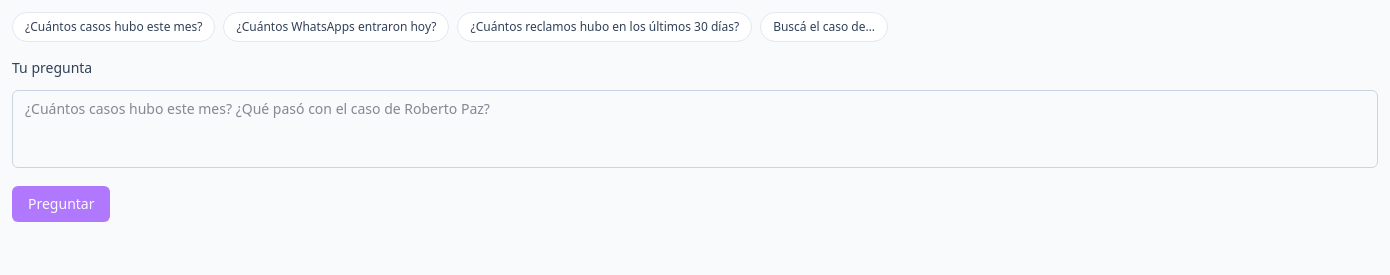
Test: CajaDelAsistente › el chip de conteo pregunta y envía solo
The image size is (1390, 275).
Click the button "¿Cuántos casos hubo este mes?": (114, 27) [12,12,216,42]
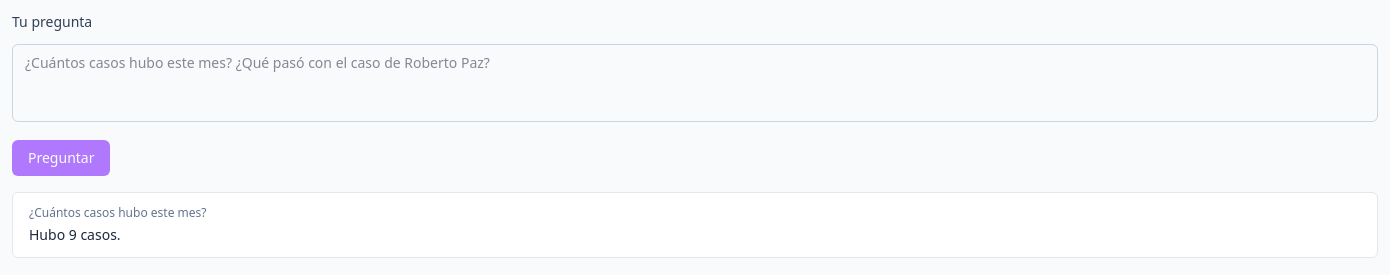
Now the text "Hubo 9 casos." is shown, box [29,225,121,244]
